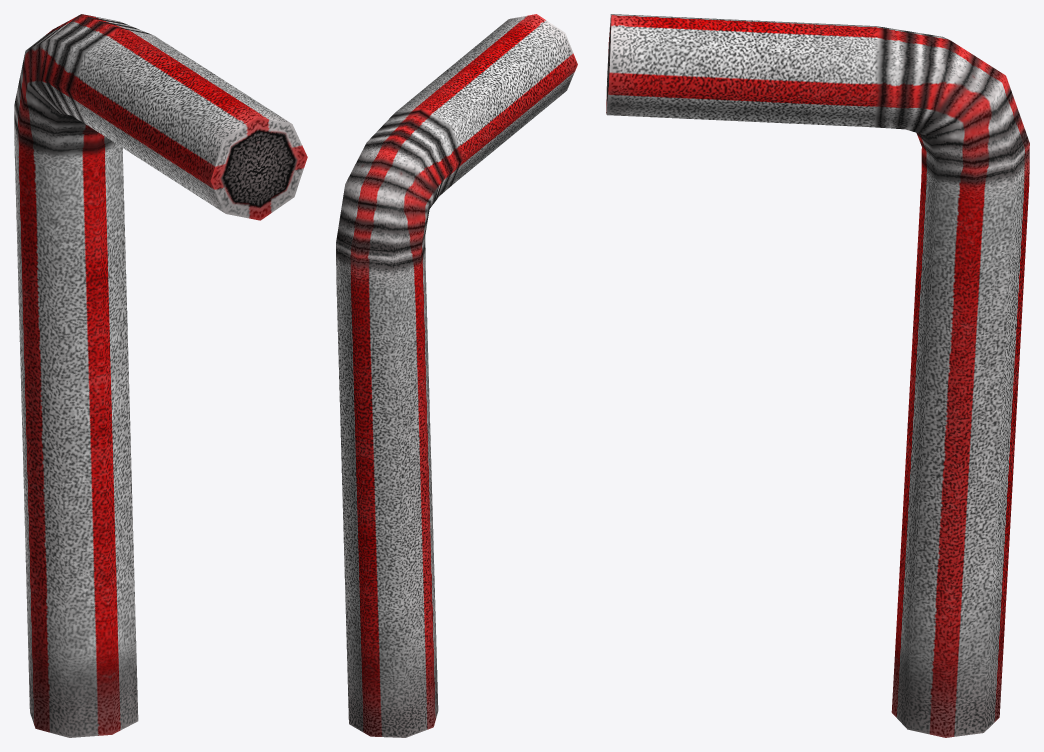
The model's file is HEAD_CHIBI_STRAW.fbx.
The picture shows the model from 3 angles, left to right: view 1: azimuth 30°, elevation 25°; view 2: azimuth 150°, elevation 25°; view 3: azimuth 270°, elevation 25°; orthographic projection. The views are drawn at different scales.
Visible parts, largest first — view 1: HEAD_STRAW; view 2: HEAD_STRAW; view 3: HEAD_STRAW.
Part boxes in pixels (x1,y1,x2,y2): HEAD_STRAW: (14,14,307,737); HEAD_STRAW: (336,14,577,737); HEAD_STRAW: (606,14,1029,737).
Bounding box in the file's own units: 0.00573 × 0.041 × 0.0224.
